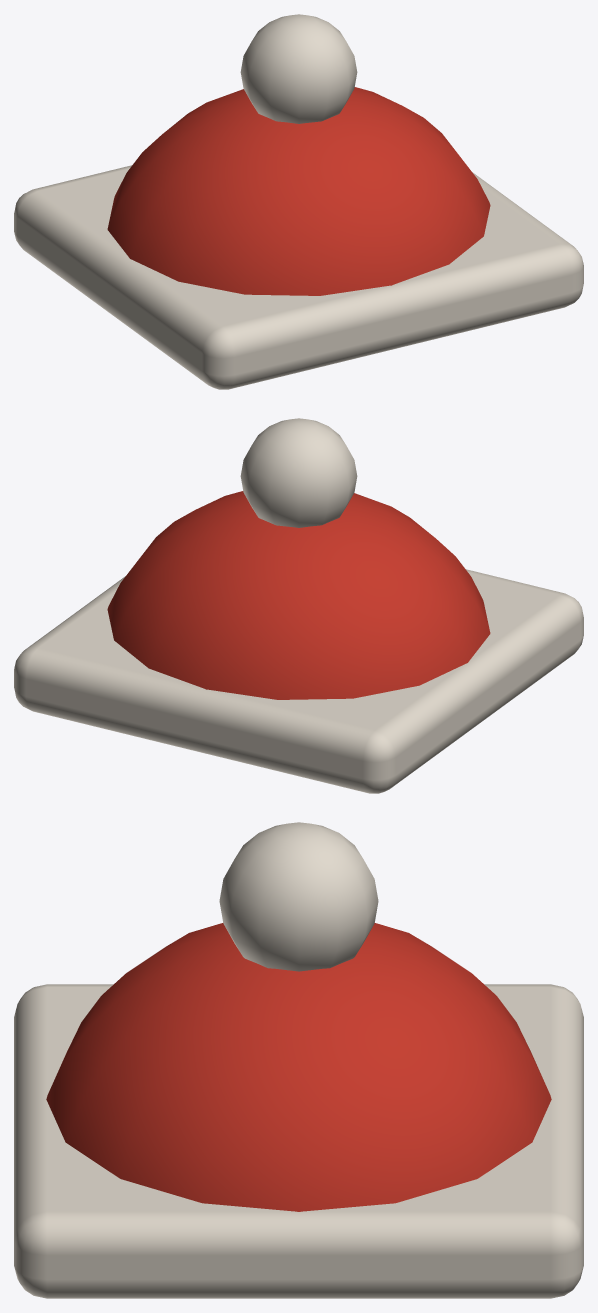
Rendered from acc-knit-hat.glb.
The picture shows the model from 3 angles, top to bottom: view 1: azimuth 30°, elevation 25°; view 2: azimuth 150°, elevation 25°; view 3: azimuth 270°, elevation 25°; orthographic projection. The views are drawn at different scales.
Visible parts, largest first — view 1: acc-knit-hat; view 2: acc-knit-hat; view 3: acc-knit-hat.
Boxes of the visible parts, box(x1,y1,x2,y2) form: acc-knit-hat: box(14, 14, 583, 389); acc-knit-hat: box(14, 418, 583, 793); acc-knit-hat: box(14, 822, 583, 1298).
Bounding box in the file's own units: 0.9 × 0.59 × 0.86.
